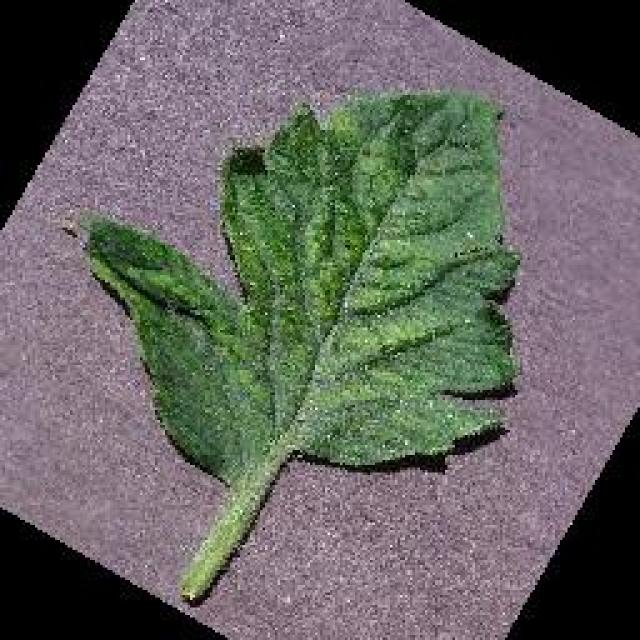Tomato___Tomato_mosaic_virus: (85, 92, 518, 598)
